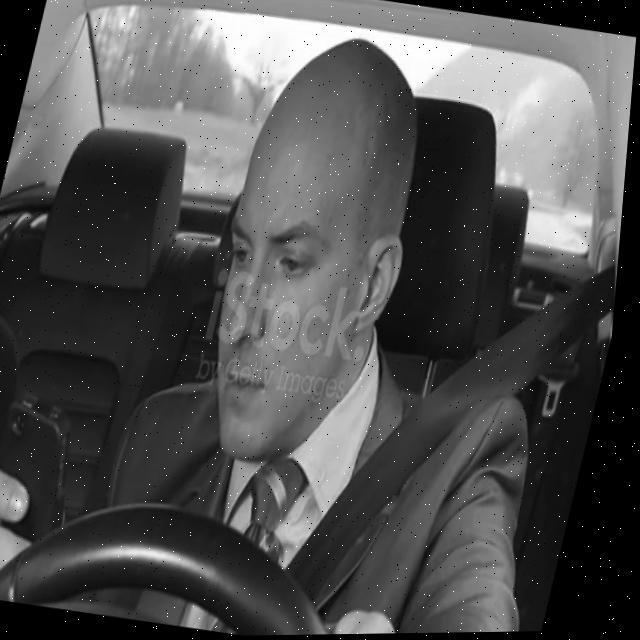PhoneCall: (0, 388, 96, 557)
